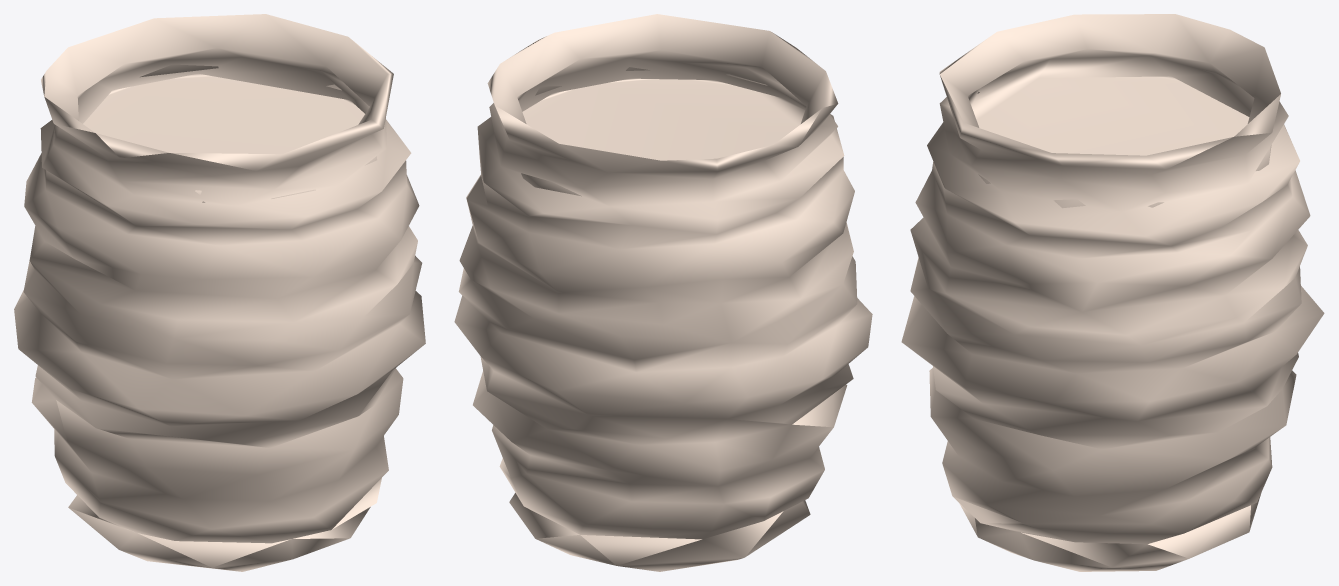
Rendered from decoration0001.obj.
3 views of the same model, side by side, from view 1: azimuth 30°, elevation 25°; view 2: azimuth 150°, elevation 25°; view 3: azimuth 270°, elevation 25° (orthographic).
Size of the model in its own units: 0.327 by 0.38 by 0.332.
Materials: 1 (1 with a texture image).
